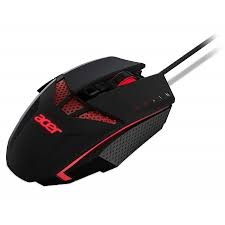mouse: (0, 54, 179, 185)
